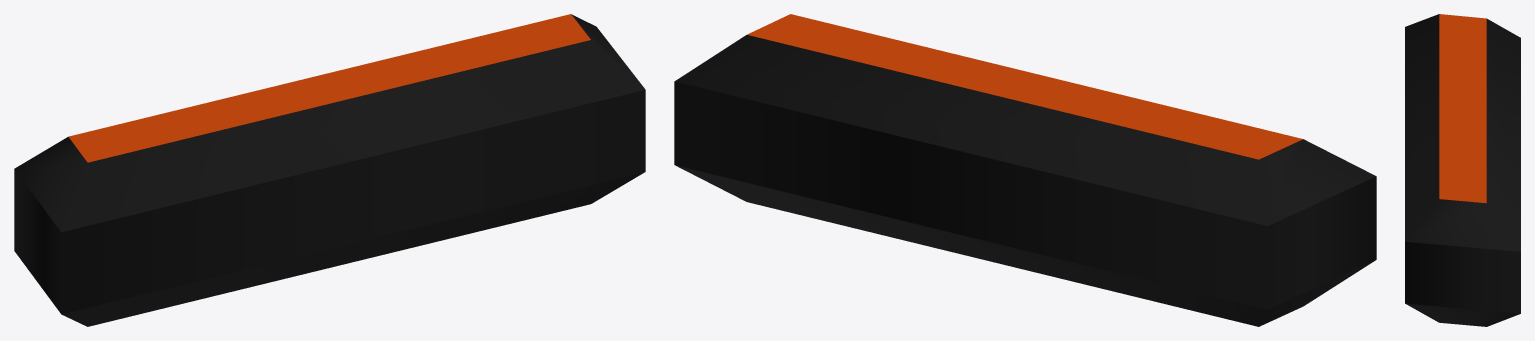
Rendered from Underscore.fbx.
3 renders of one model, left to right at view 1: azimuth 30°, elevation 25°; view 2: azimuth 150°, elevation 25°; view 3: azimuth 270°, elevation 25°, orthographic. The views are drawn at different scales.
Visible parts, largest first — view 1: Text; view 2: Text; view 3: Text.
Part boxes in pixels (<box>): Text: <box>14,14,645,326</box>; Text: <box>674,14,1376,326</box>; Text: <box>1405,14,1520,326</box>.
Size of the model in its own units: 0.6242 by 0.16 by 0.1358.
